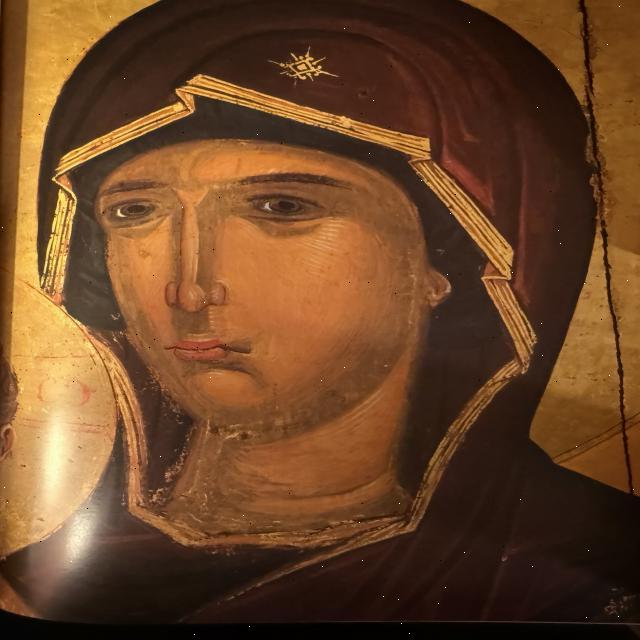mary: (1, 1, 640, 640)
